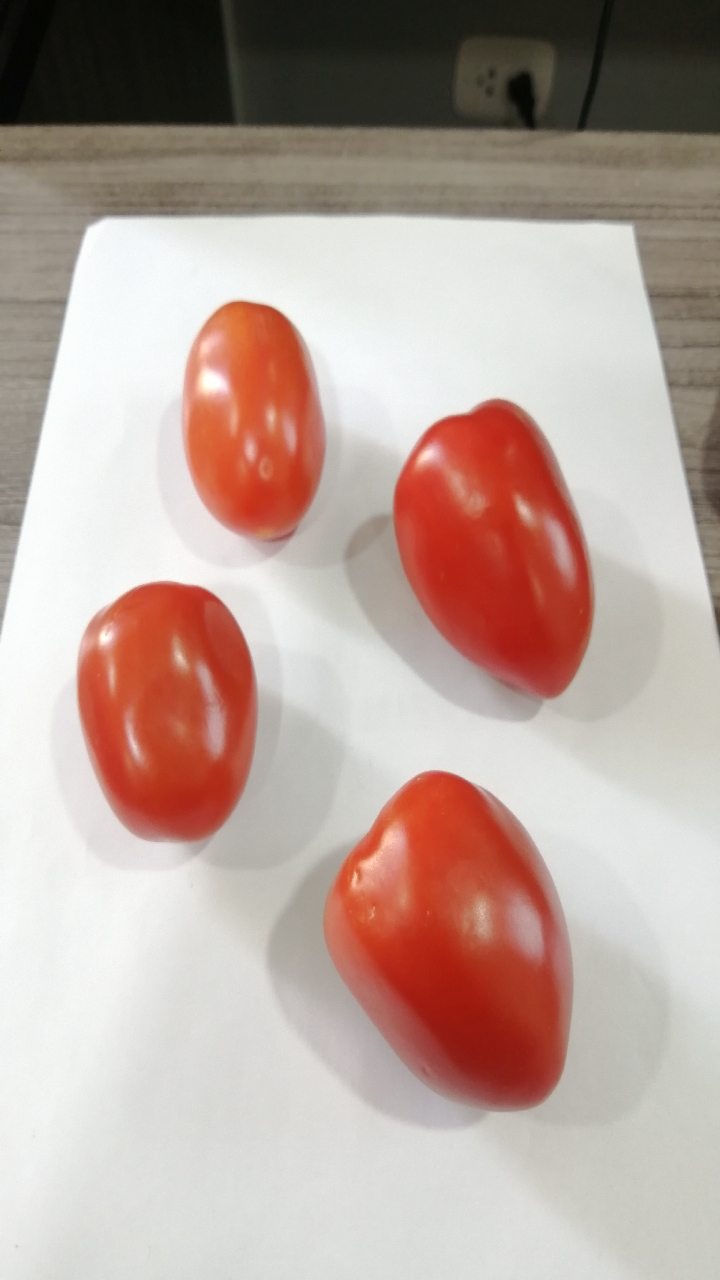tomateRojo: (311, 748, 584, 1125), (379, 380, 613, 705), (69, 555, 268, 855), (144, 277, 346, 554)
